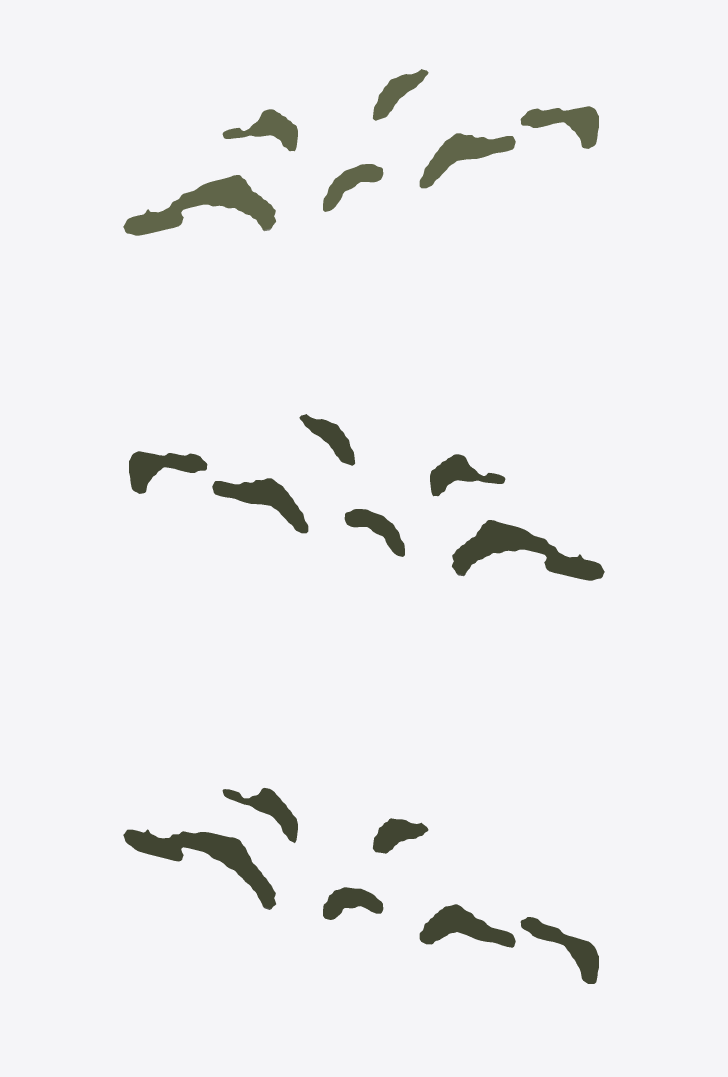
Rendered from SM_Grass_03.fbx.
The picture shows the model from 3 angles, top to bottom: view 1: azimuth 30°, elevation 25°; view 2: azimuth 150°, elevation 25°; view 3: azimuth 330°, elevation 25°; orthographic projection.
Visible parts, largest first — view 1: SM_Grass_03; view 2: SM_Grass_03; view 3: SM_Grass_03.
Boxes of the visible parts, <box> form: SM_Grass_03: <box>123,69,598,235</box>; SM_Grass_03: <box>129,414,604,580</box>; SM_Grass_03: <box>123,788,598,983</box>.
Size of the model in its own units: 70.18 by 20.96 by 0.
1 material, 1 textured.
